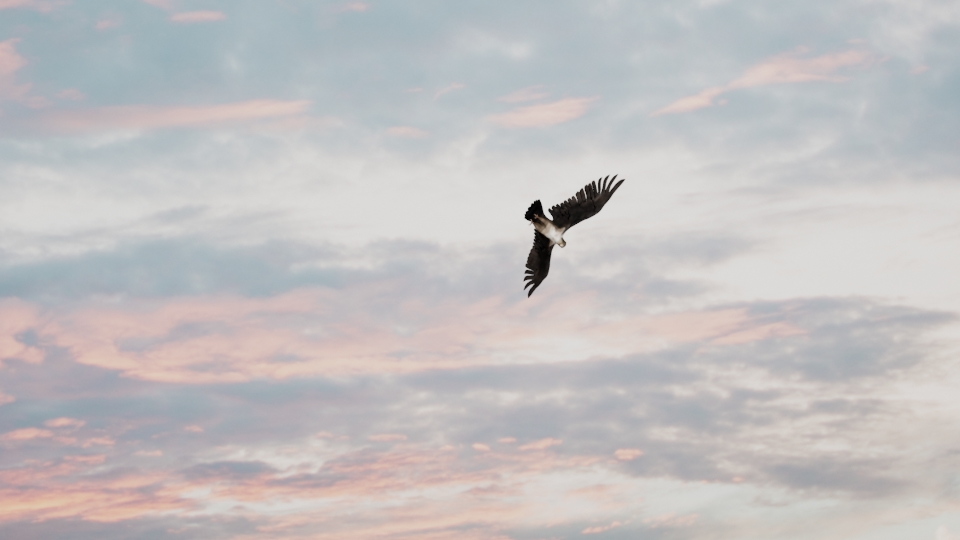bird: (519, 173, 620, 297)
